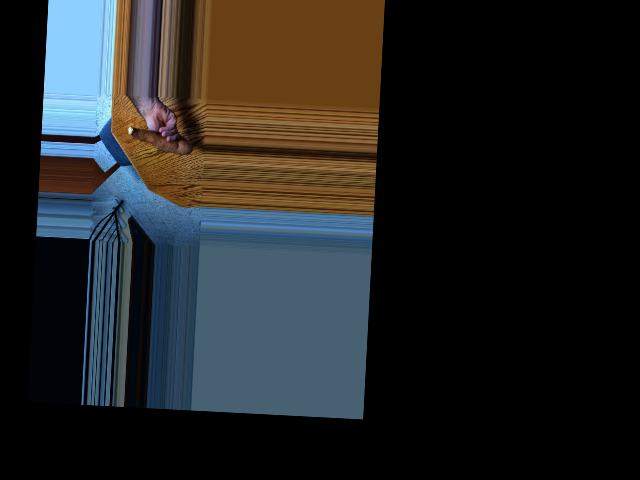sweet_potato: (125, 124, 190, 158)
